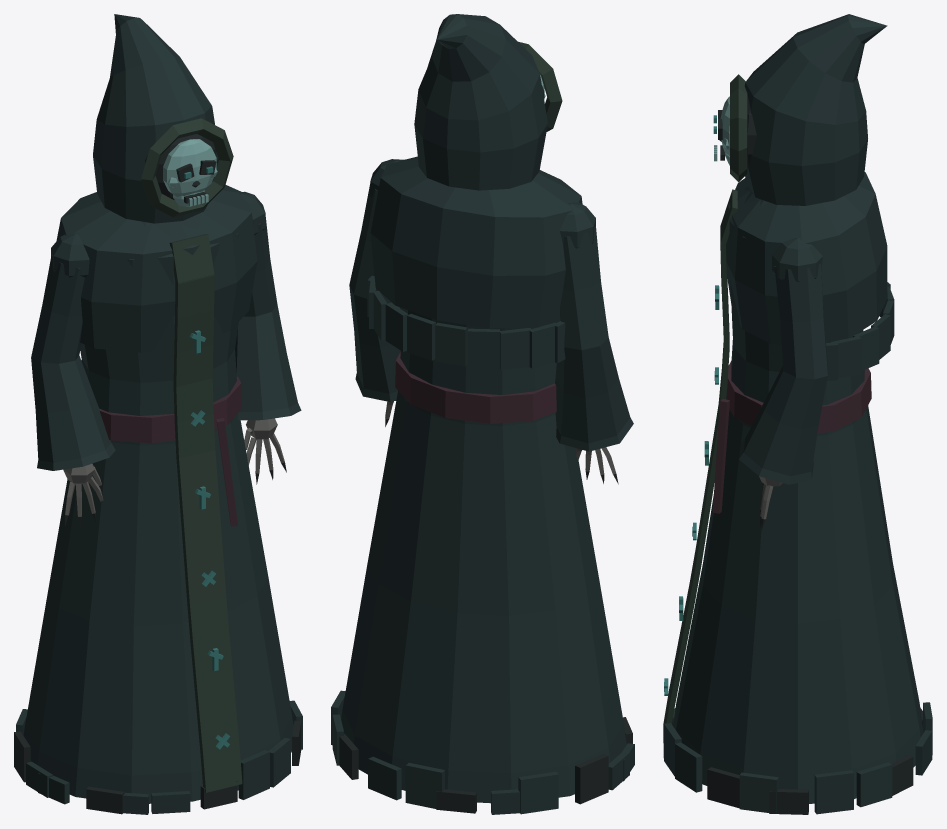
File: vrajitor_2.glb
3 views of the same model, side by side, from view 1: azimuth 30°, elevation 25°; view 2: azimuth 150°, elevation 25°; view 3: azimuth 270°, elevation 25° (orthographic). The views are drawn at different scales.
Parts seen in each view (by area): view 1: Corp, Cap, BratDrept, BratStang, Lumini; view 2: Corp, Cap, BratDrept, BratStang; view 3: Corp, Cap, BratStang, Lumini.
Part boxes in pixels (<box>): Corp: <box>14,184,302,814</box>; Cap: <box>93,14,233,223</box>; BratDrept: <box>31,233,115,527</box>; BratStang: <box>235,191,301,484</box>; Lumini: <box>190,330,229,749</box>; Corp: <box>331,156,634,814</box>; Cap: <box>414,14,562,190</box>; BratDrept: <box>555,202,633,484</box>; BratStang: <box>349,159,403,426</box>; Corp: <box>663,172,932,814</box>; Cap: <box>714,14,887,205</box>; BratStang: <box>739,238,828,530</box>; Lumini: <box>664,285,719,695</box>.
Bounding box in the file's own units: 0.7711 × 2.08 × 0.6912.
